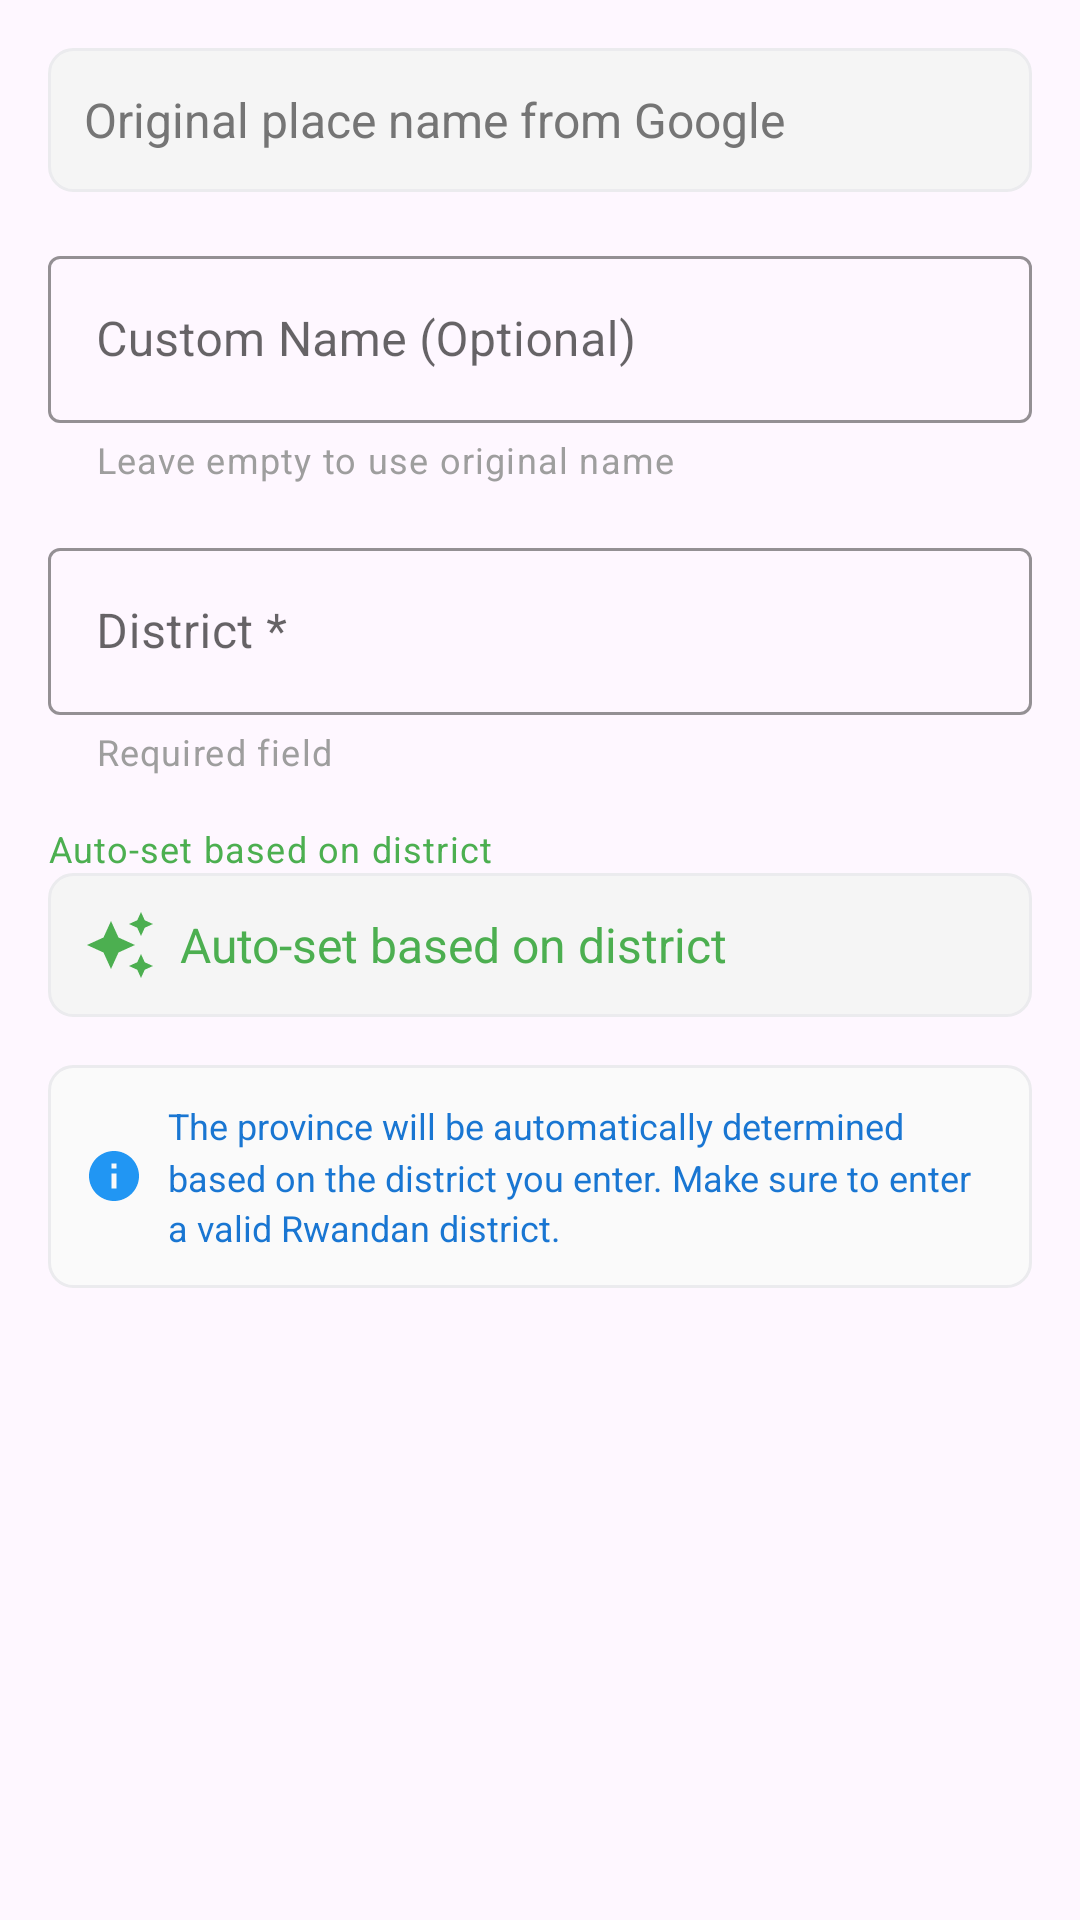

Screen size 1080px×1920px. Icon name, then its center in pixels as [x,y]:
info: [114,1176]
